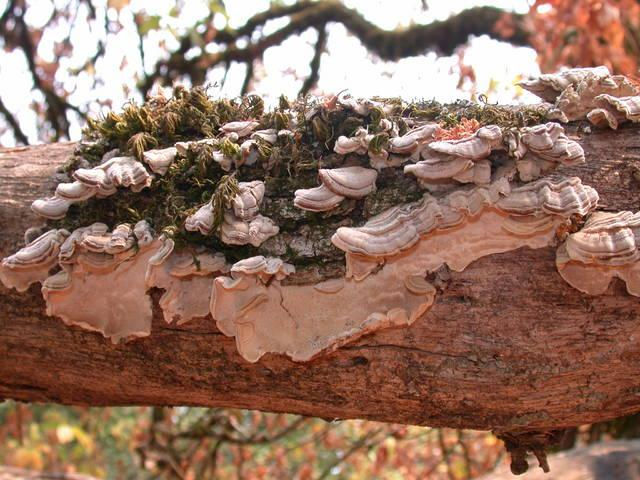Non-edible Mushroom: (0, 57, 640, 274), (292, 164, 378, 213)
